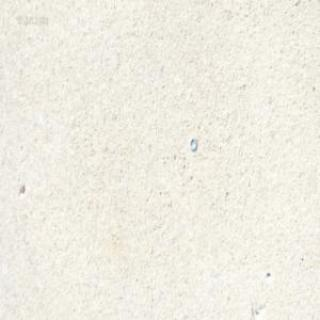Washertrack_idkeyframe: (188, 135, 196, 151)
